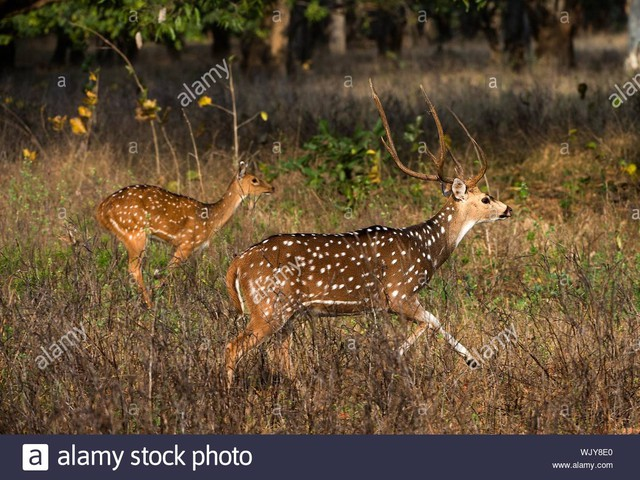deer: (274, 155, 516, 381), (84, 150, 288, 235)
